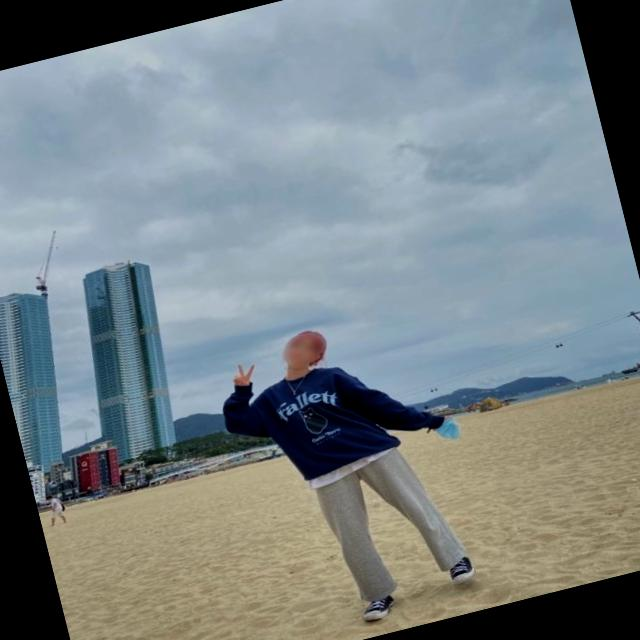mtm: (212, 339, 448, 499)
trainingpants: (308, 438, 472, 610)
